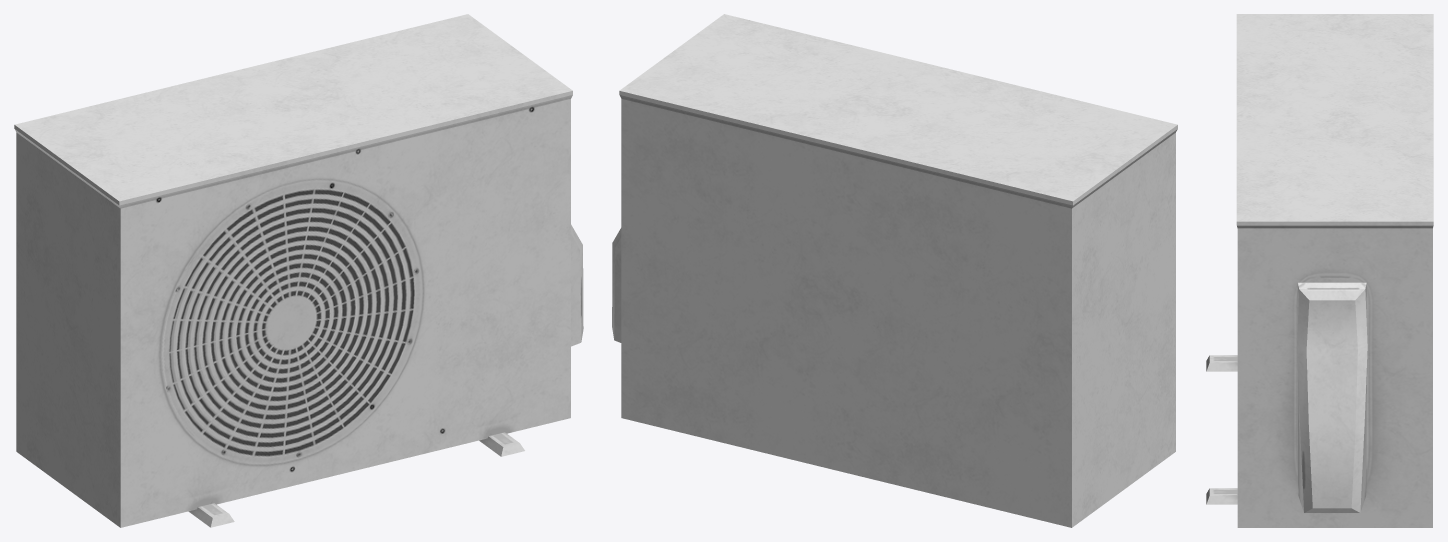
Rendered from OutdoorUnit_Window_002.fbx.
3 renders of one model, left to right at view 1: azimuth 30°, elevation 25°; view 2: azimuth 150°, elevation 25°; view 3: azimuth 270°, elevation 25°, orthographic. The views are drawn at different scales.
Parts seen in each view (by area): view 1: OutdoorUnit_Window_002; view 2: OutdoorUnit_Window_002; view 3: OutdoorUnit_Window_002.
Boxes of the visible parts, x1,y1,x2,y2 form: OutdoorUnit_Window_002: (14, 14, 583, 527); OutdoorUnit_Window_002: (612, 14, 1177, 527); OutdoorUnit_Window_002: (1206, 14, 1433, 527).
Size of the model in its own units: 57.34 by 36.13 by 23.82.
1 material, 1 textured.
